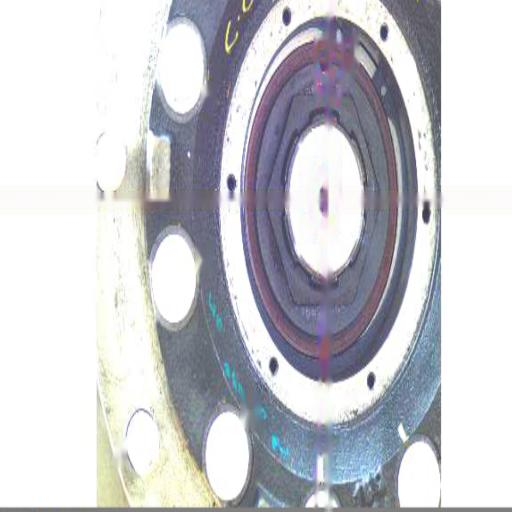center: (314, 182, 334, 219)
notch: (318, 58, 330, 83)
